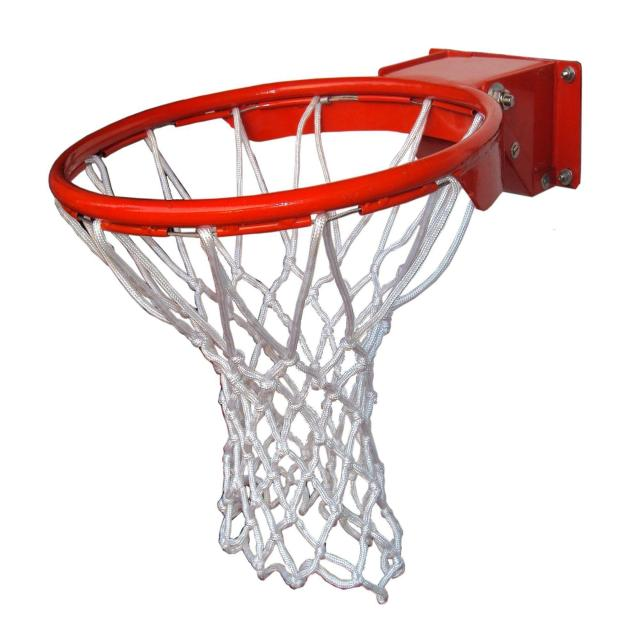hoop: (36, 86, 438, 599)
